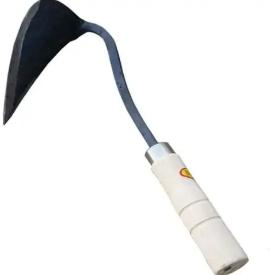HOUE: (1, 0, 254, 275)
